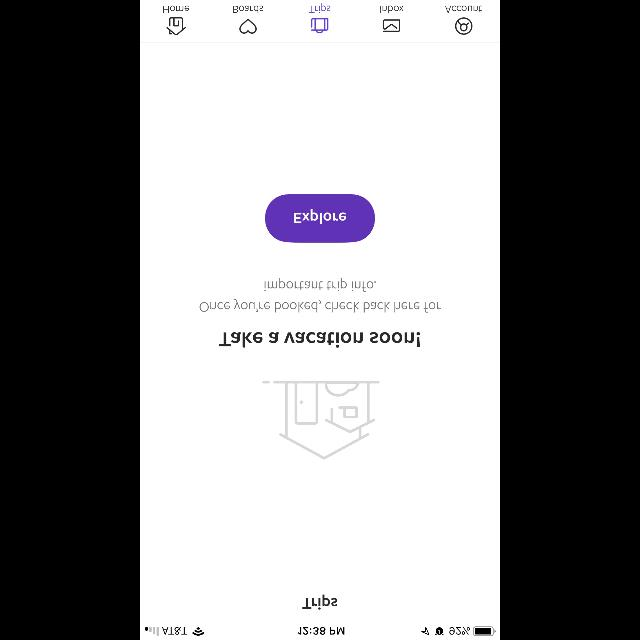icon: (166, 17, 186, 35), (240, 18, 256, 34), (312, 18, 328, 34), (456, 18, 472, 34), (384, 20, 401, 32)
image: (262, 380, 380, 460)
text: (199, 278, 441, 312), (220, 332, 420, 348), (302, 594, 338, 610), (233, 6, 263, 14), (446, 6, 482, 12), (310, 3, 330, 13), (381, 6, 404, 14), (163, 6, 189, 12)
textbutton: (266, 194, 374, 242)
uppertaskbar: (140, 626, 500, 640)
